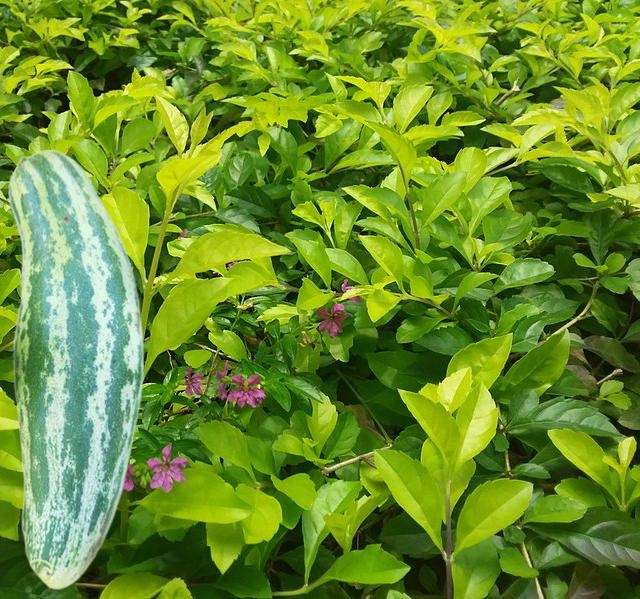cucumber: (7, 148, 143, 589)
